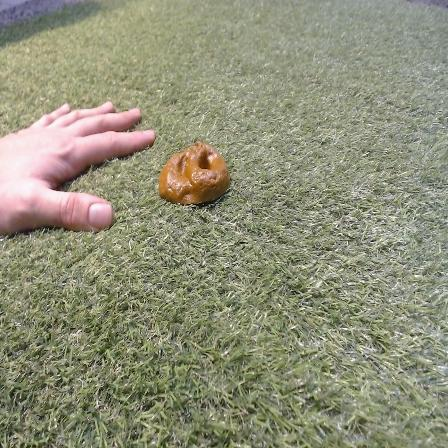dog-poop: (158, 143, 230, 208)
